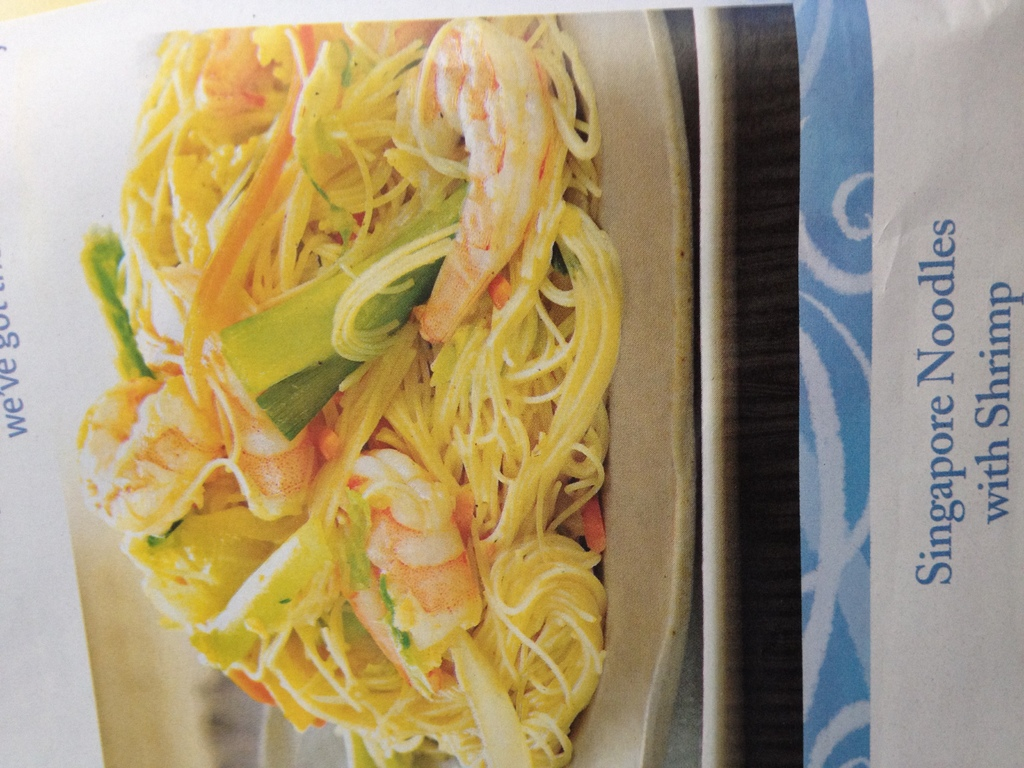pasta: (74, 15, 625, 767)
